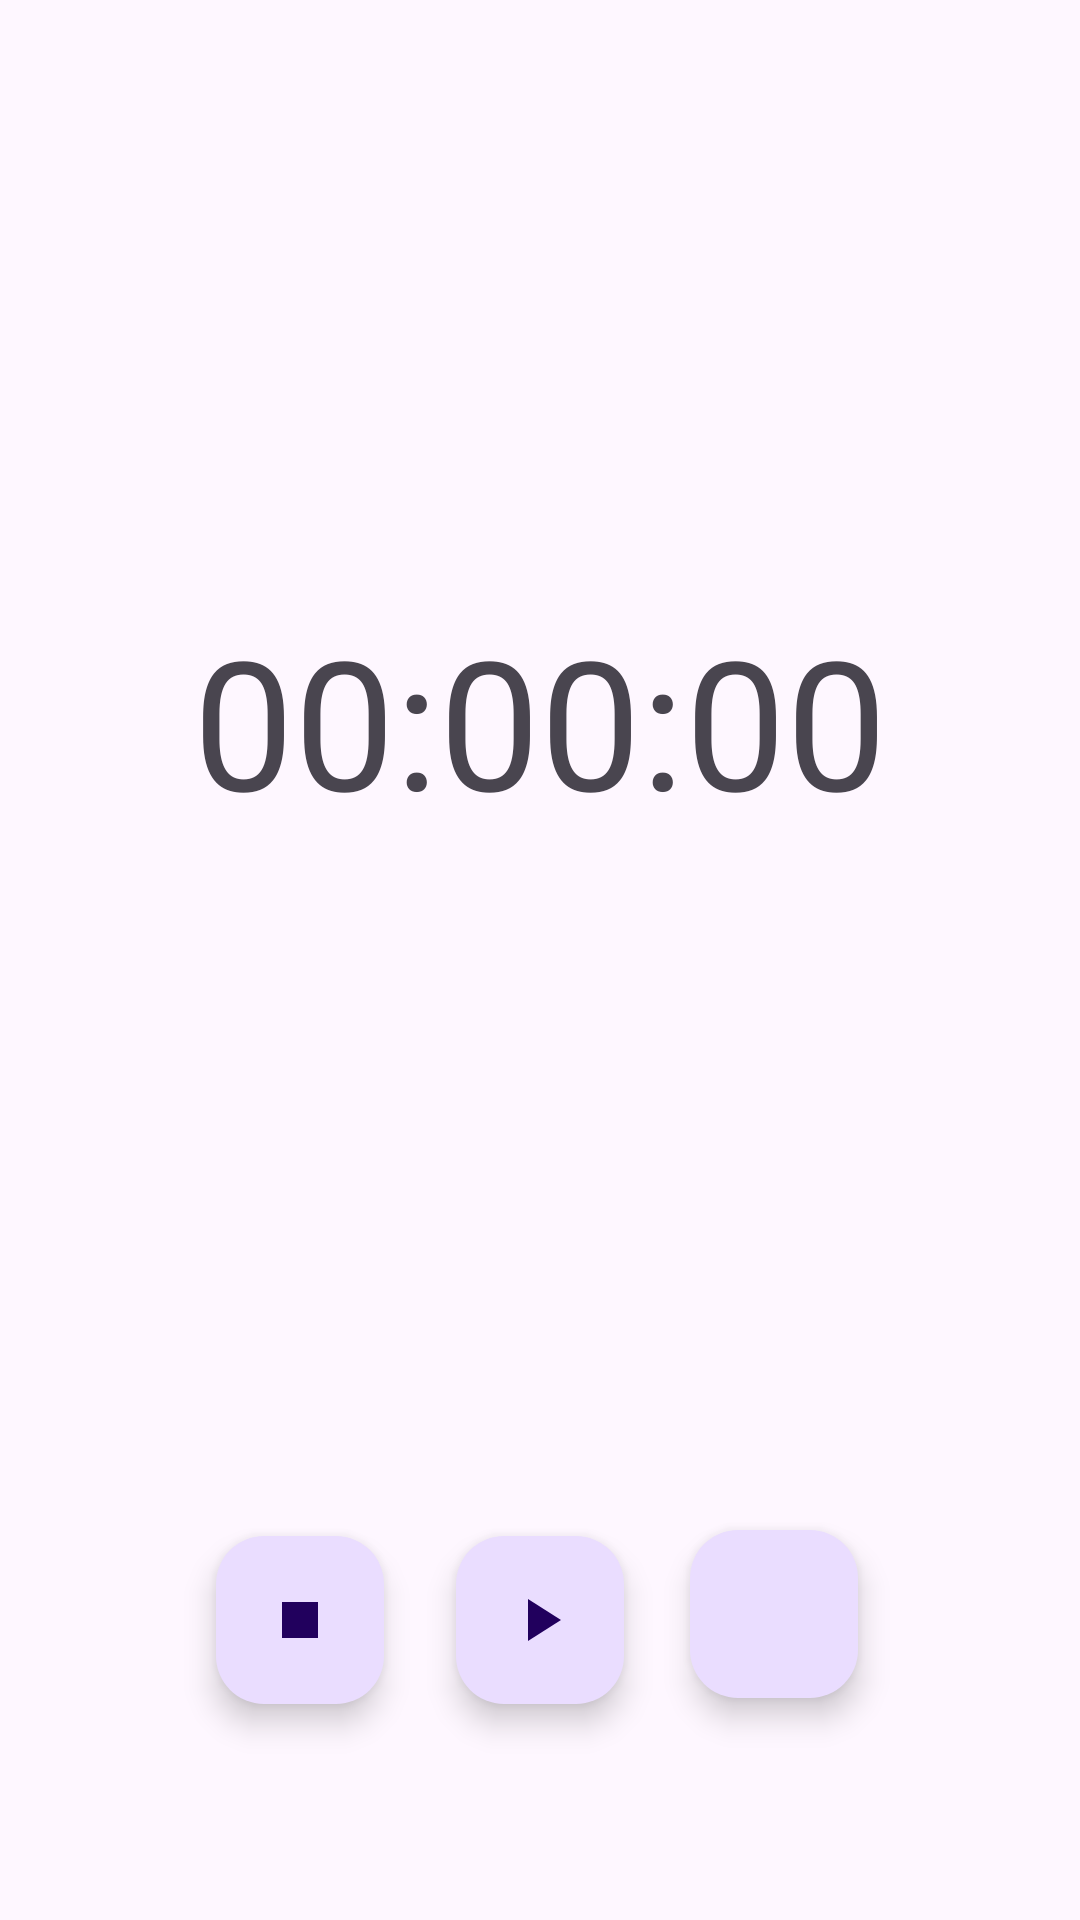

Icons on this 1080 x 1920 Android screen, each with its box as (x1, y1, x2, y2):
play arrow: (456, 1536, 624, 1704)
stop: (216, 1536, 384, 1704)
